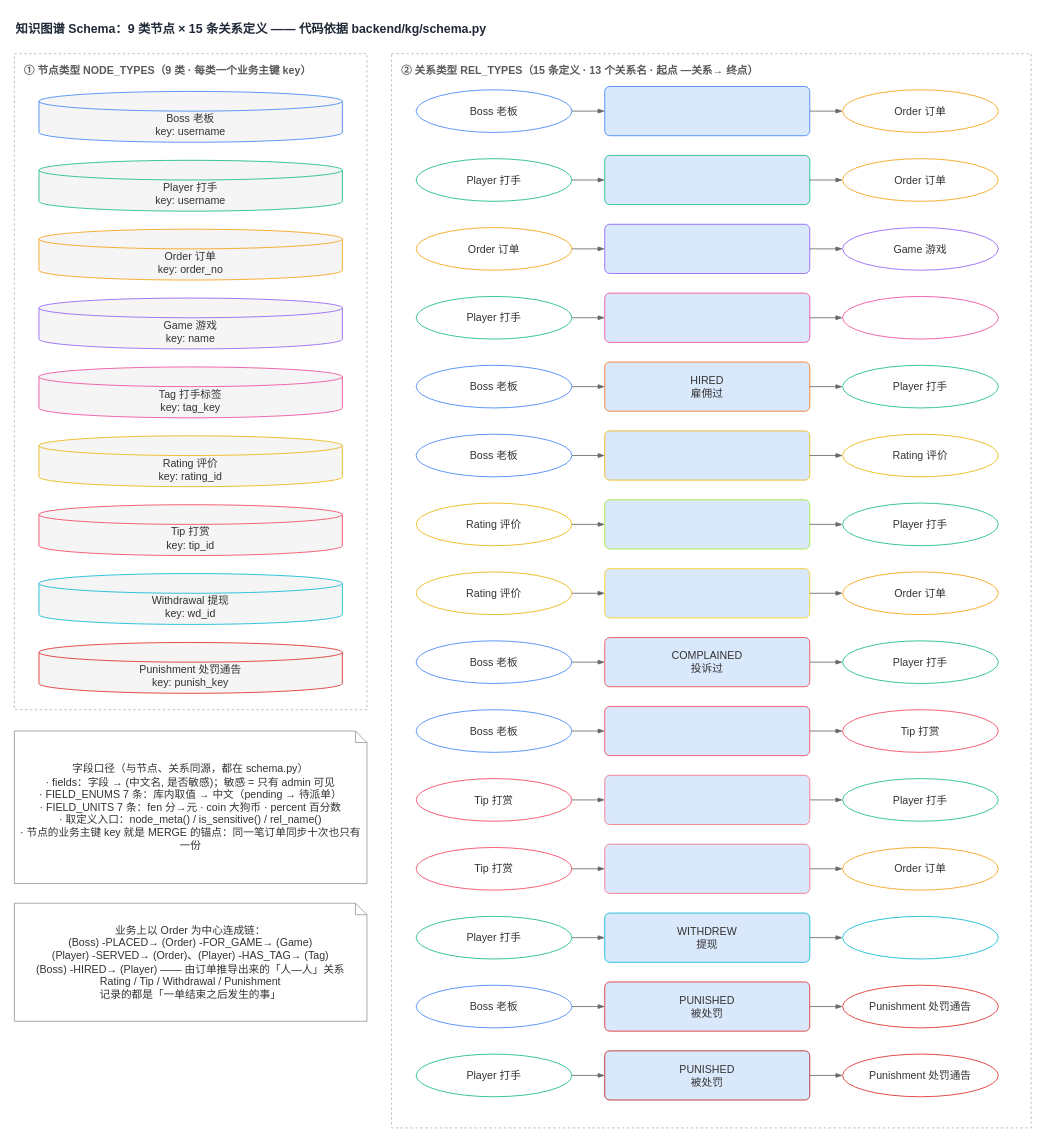
Image size: 1046x1142. Some labels were removed from this diagram. Each missing label, with the centre of its shape:
ABOUT 给: the point at 707,524
FOR_GAME 所属游戏: the point at 707,248
FOR_ORDER 打赏订单: the point at 707,868
FOR_ORDER 评价订单: the point at 707,593
HAS_TAG 持有标签: the point at 707,317
PLACED 下单: the point at 707,111
RATED 评价: the point at 707,455
SERVED 接单: the point at 707,180
Tag 打手标签: the point at 920,317
TIPPED 打赏: the point at 707,731
TO 给: the point at 707,799
Withdrawal 提现: the point at 920,937
